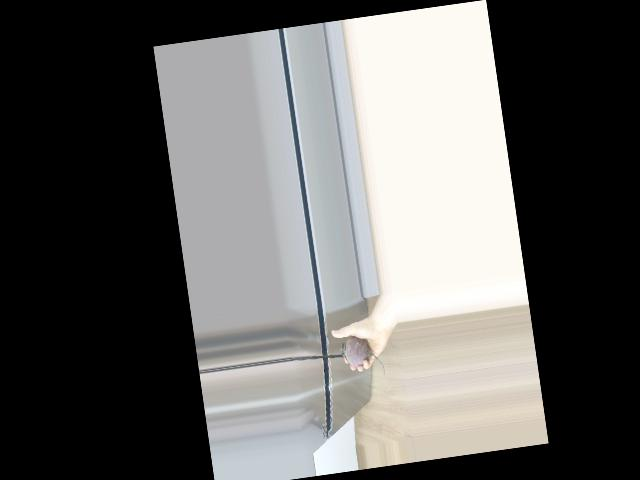beet: (339, 332, 385, 381)
